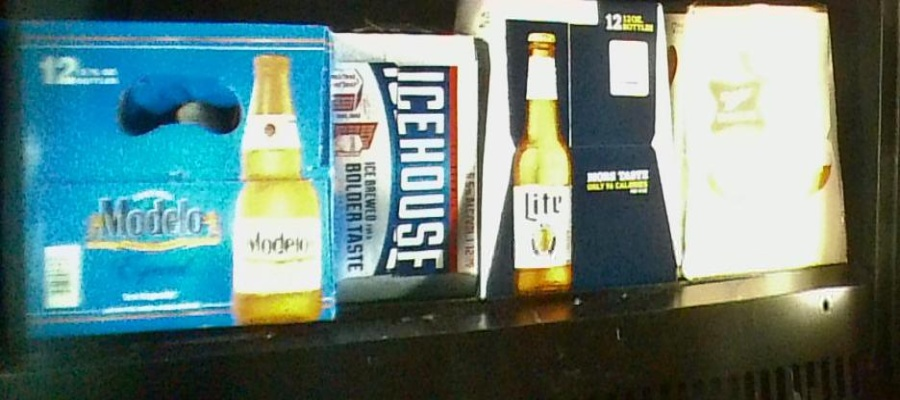bottle: (6, 22, 334, 325), (481, 5, 681, 285), (681, 1, 847, 274), (332, 30, 483, 305)
